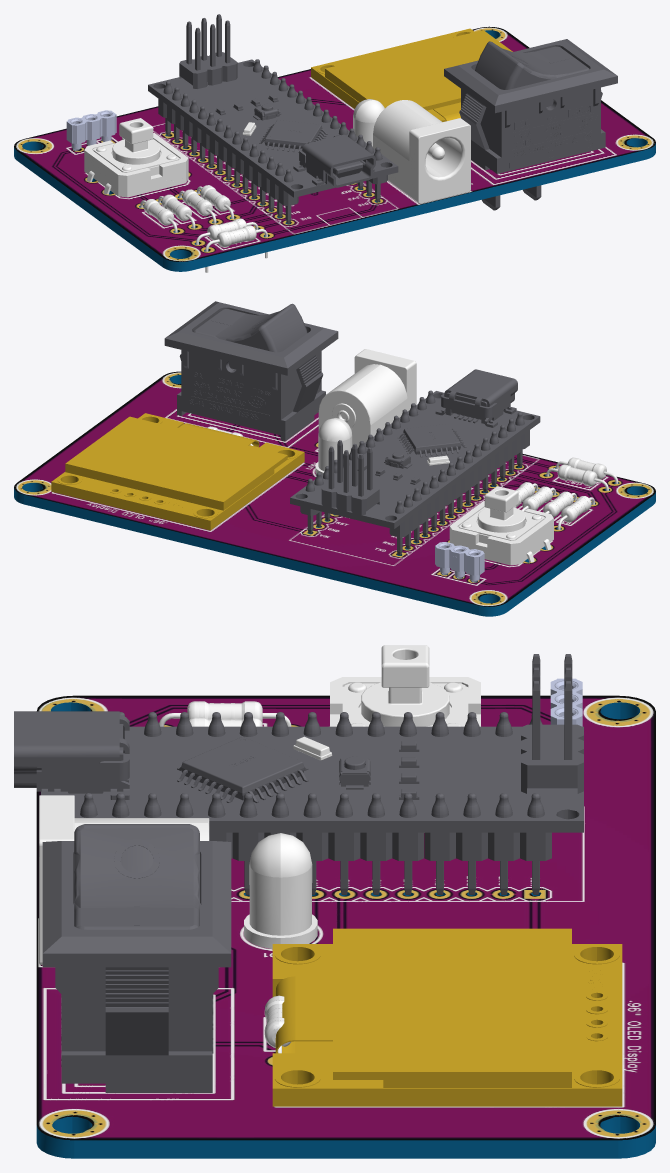
File: board.glb
3 renders of one model, top to bottom at view 1: azimuth 30°, elevation 25°; view 2: azimuth 150°, elevation 25°; view 3: azimuth 270°, elevation 25°, orthographic. The views are drawn at different scales.
Visible parts, largest first — view 1: Board-mesh, U2-mesh (×2), A1-mesh (×6), U1-mesh, DC1-mesh, SW1-mesh, H1-mesh, LED1-mesh, R2-mesh, R3-mesh, R6-mesh, R5-mesh (+2 smaller); view 2: Board-mesh, U1-mesh, U2-mesh (×2), A1-mesh (×4), DC1-mesh, SW1-mesh, H1-mesh, LED1-mesh, R1-mesh, R3-mesh, R2-mesh, R6-mesh (+1 smaller); view 3: Board-mesh, A1-mesh (×14), U1-mesh, U2-mesh (×2), SW1-mesh, LED1-mesh, DC1-mesh, R3-mesh, H1-mesh, R8-mesh.
Part boxes in pixels (bbox=[...]): Board-mesh: bbox=[14, 26, 655, 271]; U2-mesh (×2): bbox=[444, 39, 617, 210]; A1-mesh (×6): bbox=[148, 14, 398, 223]; U1-mesh: bbox=[311, 28, 512, 121]; DC1-mesh: bbox=[373, 100, 470, 203]; SW1-mesh: bbox=[84, 118, 188, 197]; H1-mesh: bbox=[66, 110, 116, 150]; LED1-mesh: bbox=[353, 99, 384, 146]; R2-mesh: bbox=[205, 225, 267, 272]; R3-mesh: bbox=[140, 199, 177, 232]; R6-mesh: bbox=[179, 189, 216, 223]; R5-mesh: bbox=[158, 194, 195, 228]; Board-mesh: bbox=[14, 371, 655, 616]; U1-mesh: bbox=[51, 413, 304, 530]; U2-mesh (×2): bbox=[164, 301, 338, 441]; A1-mesh (×4): bbox=[290, 369, 540, 528]; DC1-mesh: bbox=[318, 349, 416, 447]; SW1-mesh: bbox=[449, 486, 553, 565]; H1-mesh: bbox=[435, 542, 484, 582]; LED1-mesh: bbox=[315, 418, 352, 474]; R1-mesh: bbox=[546, 464, 608, 490]; R3-mesh: bbox=[557, 496, 594, 529]; R2-mesh: bbox=[556, 457, 618, 483]; R6-mesh: bbox=[521, 486, 556, 511]; Board-mesh: bbox=[36, 695, 655, 1158]; A1-mesh (×14): bbox=[14, 654, 583, 894]; U1-mesh: bbox=[272, 928, 622, 1106]; U2-mesh (×2): bbox=[42, 824, 231, 1092]; SW1-mesh: bbox=[330, 645, 480, 726]; LED1-mesh: bbox=[244, 833, 317, 948]; DC1-mesh: bbox=[39, 795, 209, 964]; R3-mesh: bbox=[159, 701, 291, 726]; H1-mesh: bbox=[550, 678, 582, 726]; R8-mesh: bbox=[264, 995, 290, 1053].
Bounding box in the file's own units: 0.0837 × 0.0245 × 0.0511.
8 materials, 2 textured.
